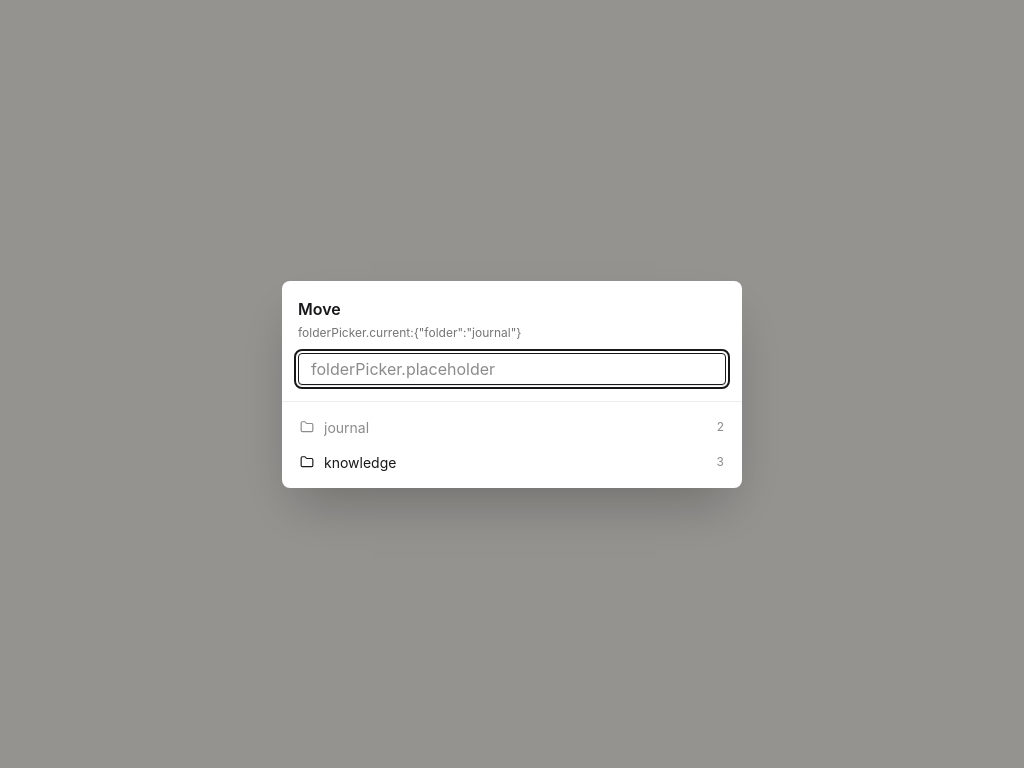
folder picker › filters folders and offers to create a new one
The width and height of the screenshot is (1024, 768).
Later steps or results of the test are not shown.
Type "projects/new/" into the dropdown at {"x": 512, "y": 368}, box [298,352,726,384]
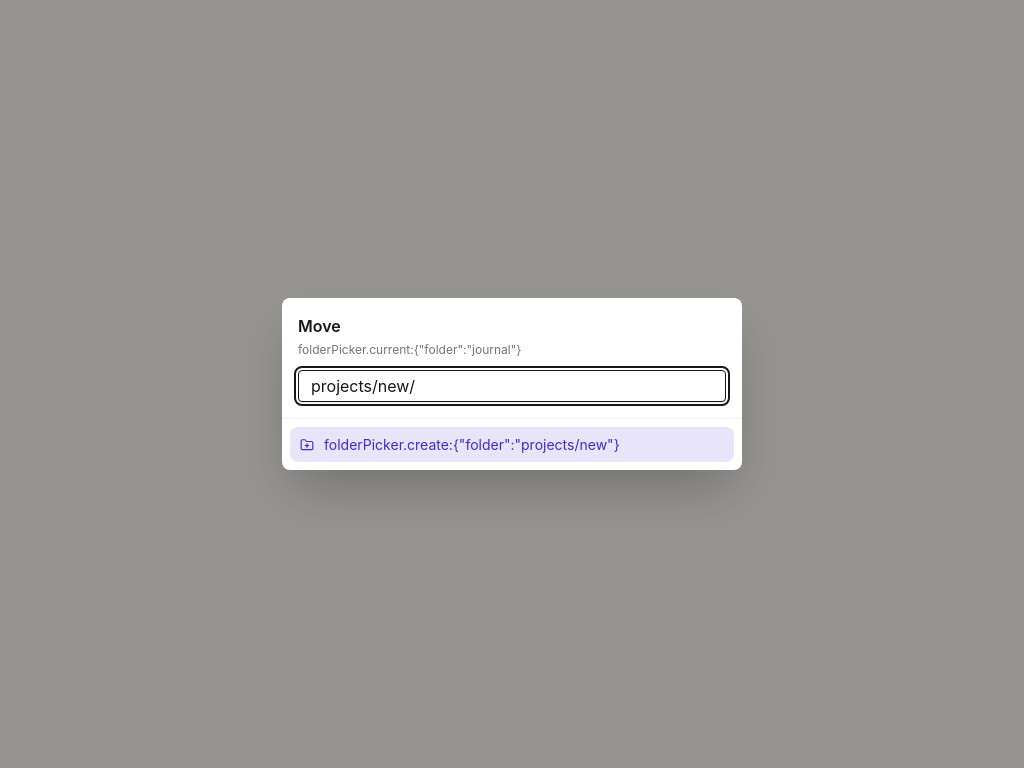
Check: the button "knowledge" is gone
